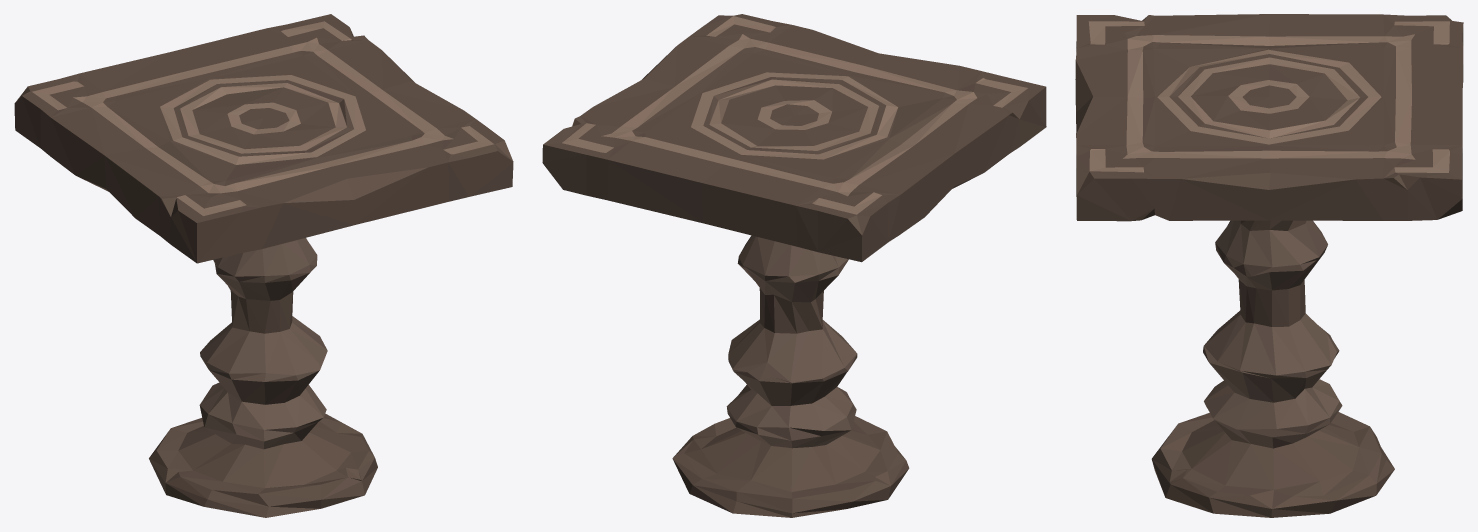
File: SFI_Table_S_005.fbx
3 views of the same model, side by side, from view 1: azimuth 30°, elevation 25°; view 2: azimuth 150°, elevation 25°; view 3: azimuth 270°, elevation 25° (orthographic). The views are drawn at different scales.
Parts seen in each view (by area): view 1: SFI_Table_S_005; view 2: SFI_Table_S_005; view 3: SFI_Table_S_005.
Boxes of the visible parts, x1=… form: SFI_Table_S_005: x1=14, y1=14, x2=513, y2=517; SFI_Table_S_005: x1=542, y1=14, x2=1046, y2=517; SFI_Table_S_005: x1=1075, y1=14, x2=1463, y2=517.
Bounding box in the file's own units: 72.55 × 77.63 × 72.39.
